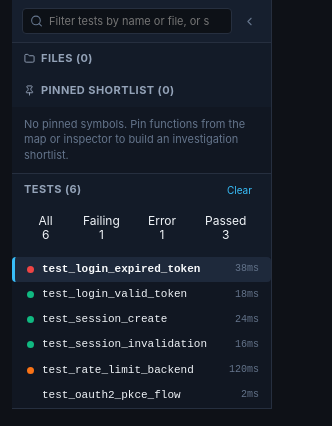
Test: TestList Component & Filtering › filters tests by text search query
Type "expired" into the field with placeholder "Filter tests by name or file, or search symbols...".
click(127, 21); type("expired")  # box [22,8,232,34]
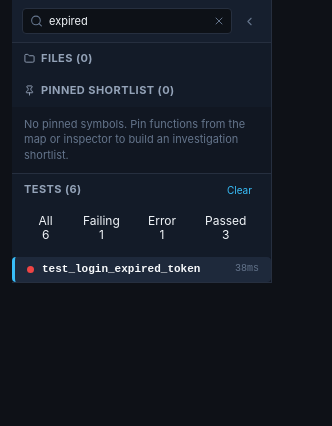
Check: the text "test_login_expired_token" is shown, box [42,263,200,276]
Check: the button "test_session_create" is gone
